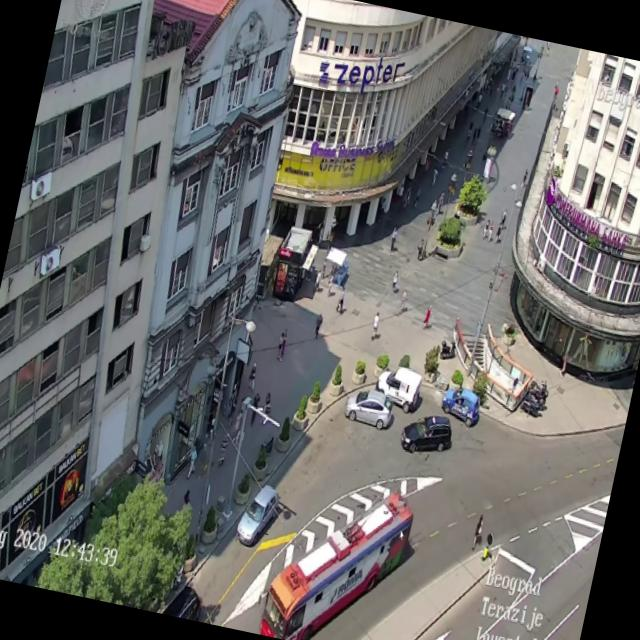bus: (257, 467, 418, 640)
car: (233, 480, 281, 550), (397, 407, 456, 460), (341, 384, 395, 432), (375, 361, 423, 409), (442, 388, 482, 425)
